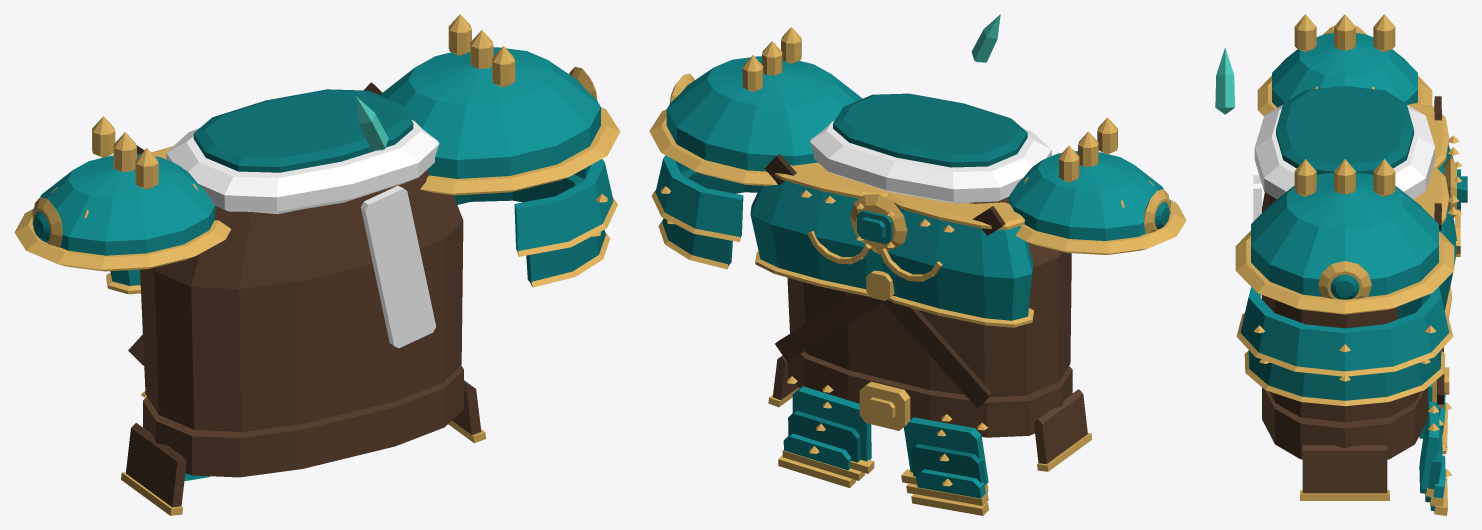
File: look3_armor_dualblade_ancient.fbx
3 views of the same model, side by side, from view 1: azimuth 30°, elevation 25°; view 2: azimuth 150°, elevation 25°; view 3: azimuth 270°, elevation 25° (orthographic). The views are drawn at different scales.
Visible parts, largest first — view 1: Main, Tasset; view 2: Main, Tasset; view 3: Main, Tasset.
Boxes of the visible parts, x1=… form: Main: x1=14, y1=14, x2=620, y2=477; Tasset: x1=121, y1=380, x2=486, y2=515; Main: x1=649, y1=14, x2=1186, y2=437; Tasset: x1=768, y1=355, x2=1092, y2=515; Main: x1=1215, y1=14, x2=1467, y2=459; Tasset: x1=1300, y1=384, x2=1452, y2=515.
Bounding box in the file's own units: 433 × 326 × 179.
